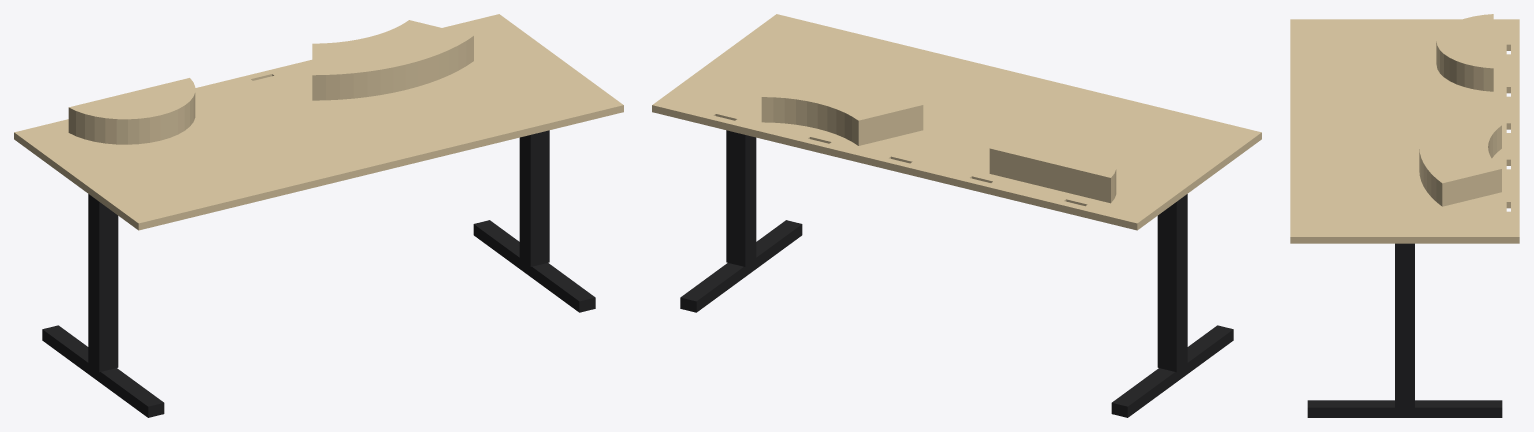
File: desk-wood-green.glb
3 renders of one model, left to right at view 1: azimuth 30°, elevation 25°; view 2: azimuth 150°, elevation 25°; view 3: azimuth 270°, elevation 25°, orthographic. The views are drawn at different scales.
Parts seen in each view (by area): view 1: Desk: Desk top, Right stand: Layer 5, Room: Desk frame leg, left, Room: Desk frame leg, right, Left stand: Layer 5, Room: Desk frame foot, left, Room: Desk frame foot, right, Right stand: Layer 1, Right stand: Layer 4, Right stand: Layer 3, Right stand: Layer 2, Left stand: Layer 1 (+3 smaller); view 2: Desk: Desk top, Right stand: Layer 5, Room: Desk frame leg, left, Room: Desk frame leg, right, Left stand: Layer 5, Room: Desk frame foot, left, Room: Desk frame foot, right, Right stand: Layer 4, Right stand: Layer 3, Right stand: Layer 1, Right stand: Layer 2, Left stand: Layer 1 (+3 smaller); view 3: Desk: Desk top, Right stand: Layer 5, Room: Desk frame foot, right, Room: Desk frame leg, right, Left stand: Layer 5, Right stand: Layer 4, Right stand: Layer 3, Right stand: Layer 1, Right stand: Layer 2, Left stand: Layer 2, Left stand: Layer 1, Left stand: Layer 3 (+1 smaller).
Part boxes in pixels (left/top/right/bottom): Desk: Desk top: left=14, top=14, right=623, bottom=230; Right stand: Layer 5: left=312, top=20, right=473, bottom=80; Room: Desk frame leg, left: left=88, top=194, right=118, bottom=372; Room: Desk frame leg, right: left=519, top=130, right=549, bottom=266; Left stand: Layer 5: left=68, top=78, right=195, bottom=124; Room: Desk frame foot, left: left=42, top=325, right=164, bottom=417; Room: Desk frame foot, right: left=473, top=220, right=595, bottom=312; Right stand: Layer 1: left=312, top=56, right=473, bottom=100; Right stand: Layer 4: left=312, top=41, right=473, bottom=85; Right stand: Layer 3: left=312, top=46, right=473, bottom=90; Right stand: Layer 2: left=312, top=51, right=473, bottom=95; Left stand: Layer 1: left=68, top=113, right=195, bottom=144; Desk: Desk top: left=652, top=14, right=1261, bottom=230; Right stand: Layer 5: left=761, top=65, right=923, bottom=125; Room: Desk frame leg, left: left=1157, top=194, right=1187, bottom=372; Room: Desk frame leg, right: left=726, top=130, right=756, bottom=266; Left stand: Layer 5: left=989, top=136, right=1116, bottom=182; Room: Desk frame foot, left: left=1111, top=325, right=1233, bottom=417; Room: Desk frame foot, right: left=680, top=220, right=802, bottom=312; Right stand: Layer 4: left=761, top=102, right=923, bottom=130; Right stand: Layer 3: left=761, top=107, right=923, bottom=135; Right stand: Layer 1: left=761, top=117, right=923, bottom=145; Right stand: Layer 2: left=761, top=112, right=923, bottom=140; Left stand: Layer 1: left=989, top=169, right=1116, bottom=203; Desk: Desk top: left=1290, top=19, right=1519, bottom=243; Right stand: Layer 5: left=1419, top=111, right=1501, bottom=187; Room: Desk frame foot, right: left=1307, top=400, right=1502, bottom=417; Room: Desk frame leg, right: left=1395, top=243, right=1414, bottom=408; Left stand: Layer 5: left=1436, top=14, right=1493, bottom=72; Right stand: Layer 4: left=1419, top=130, right=1501, bottom=192; Right stand: Layer 3: left=1419, top=135, right=1501, bottom=197; Right stand: Layer 1: left=1419, top=144, right=1501, bottom=206; Right stand: Layer 2: left=1419, top=139, right=1501, bottom=201; Left stand: Layer 2: left=1436, top=55, right=1493, bottom=86; Left stand: Layer 1: left=1436, top=60, right=1493, bottom=91; Left stand: Layer 3: left=1436, top=51, right=1493, bottom=82.
Size of the model in its own units: 1.8 by 0.82 by 0.8.
